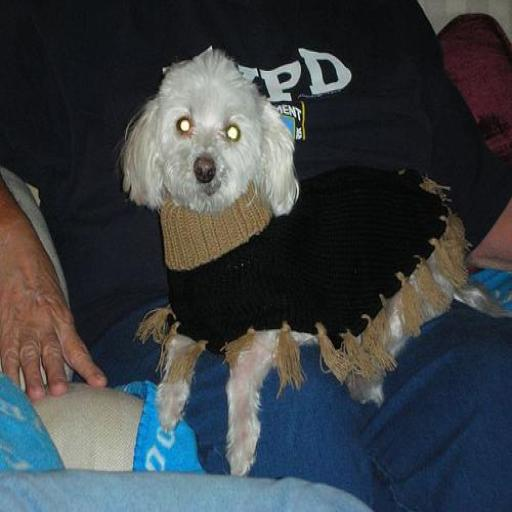dog_face: (127, 64, 290, 205)
